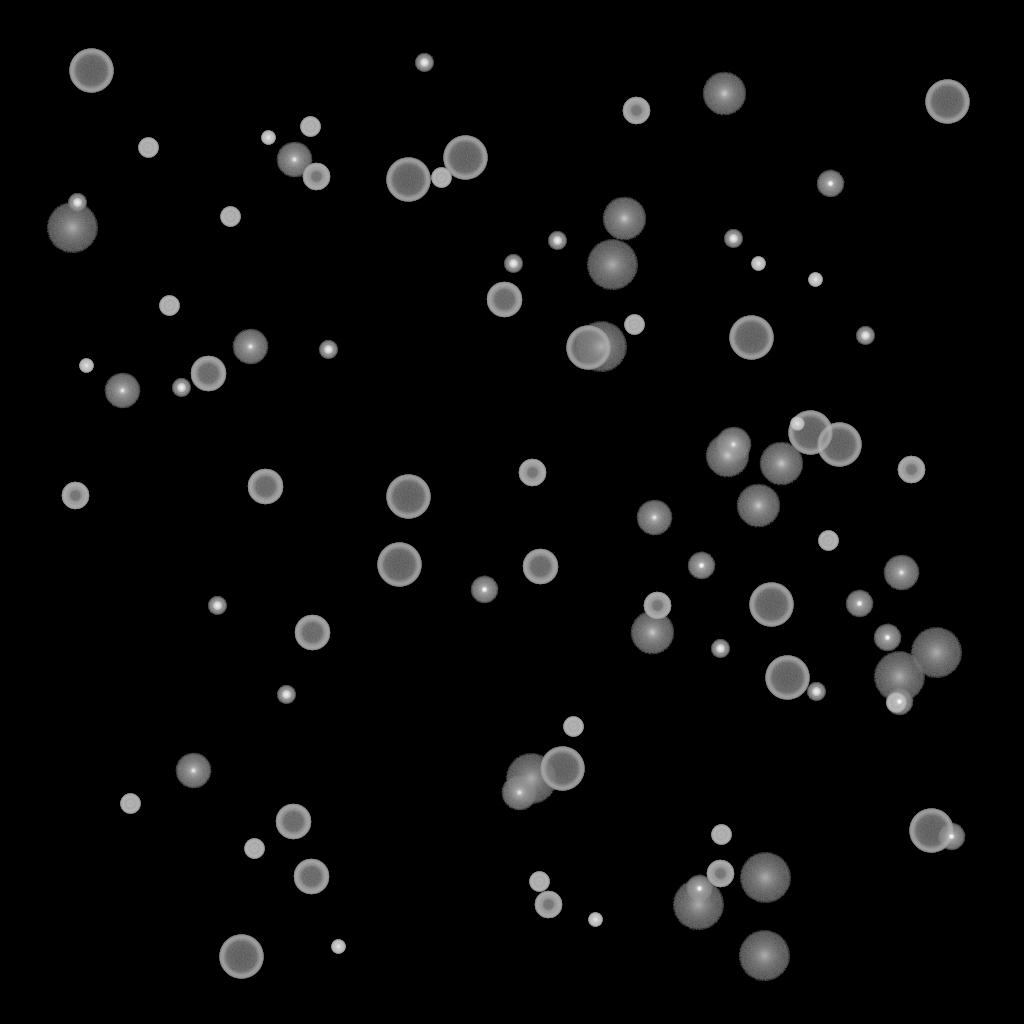depth:-10: (937, 823, 965, 851), (470, 576, 498, 604), (685, 875, 713, 903), (845, 590, 873, 618), (873, 624, 901, 652), (687, 552, 715, 580), (816, 170, 844, 198), (885, 688, 913, 716)
depth:-20: (277, 686, 295, 704), (68, 194, 86, 212), (548, 232, 566, 250), (504, 255, 522, 273), (807, 683, 825, 701), (856, 327, 874, 345), (172, 379, 190, 397), (415, 54, 433, 72), (724, 230, 742, 248), (319, 341, 337, 359), (208, 597, 226, 615), (711, 640, 729, 658)
depth:-30: (331, 940, 345, 954), (588, 913, 602, 927), (751, 257, 765, 271), (808, 273, 822, 287), (261, 131, 275, 145), (79, 359, 93, 373), (790, 417, 804, 431)
depth:-40: (220, 207, 240, 227), (886, 693, 906, 713), (138, 138, 158, 158), (120, 794, 140, 814), (624, 315, 644, 335), (529, 872, 549, 892), (818, 531, 838, 551), (244, 839, 264, 859), (563, 717, 583, 737), (159, 296, 179, 316), (711, 825, 731, 845), (431, 168, 451, 188), (300, 117, 320, 137)
depth:-50: (302, 163, 330, 191), (61, 482, 89, 510), (706, 860, 734, 888), (643, 592, 671, 620), (518, 459, 546, 487), (534, 891, 562, 919), (897, 456, 925, 484), (622, 97, 650, 125)
depth:-60: (294, 615, 330, 651), (247, 469, 283, 505), (486, 282, 522, 318), (190, 356, 226, 392), (522, 549, 558, 585), (293, 859, 329, 895), (275, 804, 311, 840)
depth:-70: (386, 158, 430, 202), (909, 809, 953, 853), (69, 49, 113, 93), (566, 326, 610, 370), (817, 423, 861, 467), (219, 935, 263, 979), (765, 656, 809, 700), (443, 136, 487, 180), (925, 80, 969, 124), (377, 543, 421, 587), (749, 583, 793, 627), (788, 411, 832, 455), (540, 747, 584, 791), (386, 475, 430, 519), (729, 316, 773, 360)
depth:0: (501, 775, 537, 811), (175, 753, 211, 789), (715, 427, 751, 463), (104, 373, 140, 409), (883, 555, 919, 591), (636, 500, 672, 536), (276, 142, 312, 178), (232, 329, 268, 365)
depth:10: (736, 484, 780, 528), (705, 434, 749, 478), (602, 197, 646, 241), (630, 611, 674, 655), (702, 72, 746, 116), (759, 442, 803, 486)
depth:20: (672, 880, 724, 930), (739, 853, 791, 903), (505, 754, 557, 804), (873, 652, 925, 702), (586, 240, 638, 290), (46, 203, 98, 253), (575, 322, 627, 372), (738, 931, 790, 981), (910, 628, 962, 678)
